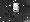person: (14, 5, 20, 16)
